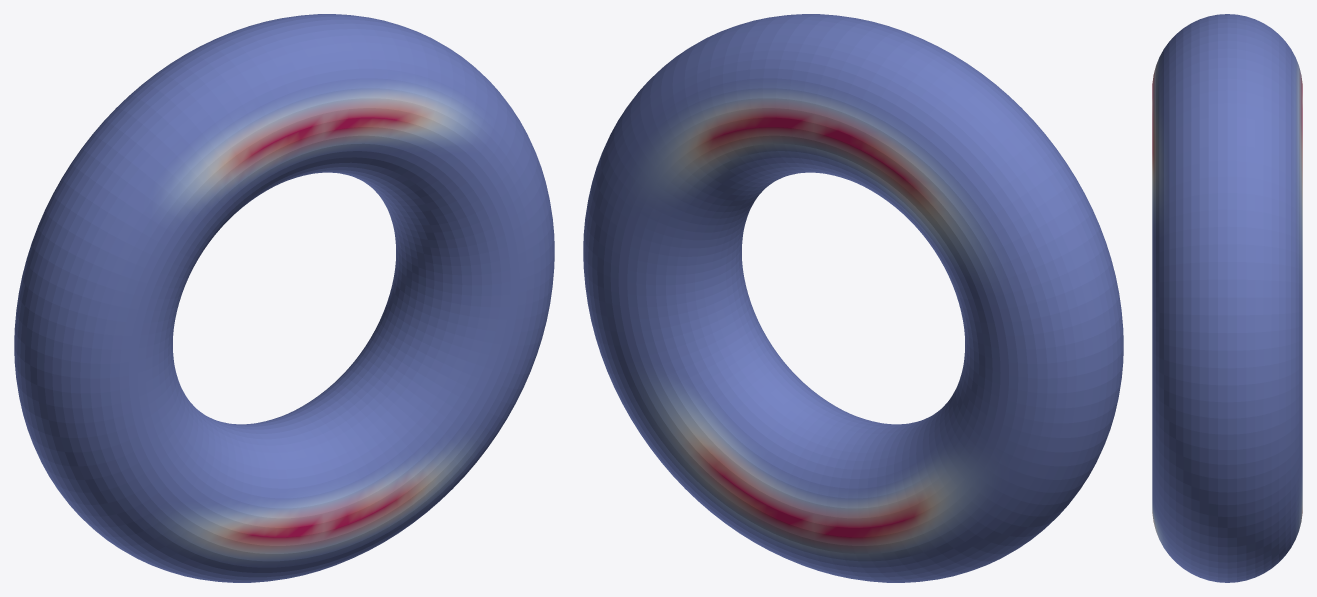
The picture shows the model from 3 angles, left to right: view 1: azimuth 30°, elevation 25°; view 2: azimuth 150°, elevation 25°; view 3: azimuth 270°, elevation 25°; orthographic projection. The views are drawn at different scales.
Visible parts, largest first — view 1: world; view 2: world; view 3: world.
Part boxes in pixels (<box>): world: <box>14,14,554,582</box>; world: <box>583,14,1123,582</box>; world: <box>1152,14,1302,582</box>.
Bounding box in the file's own units: 13.6 × 13.6 × 3.59.
